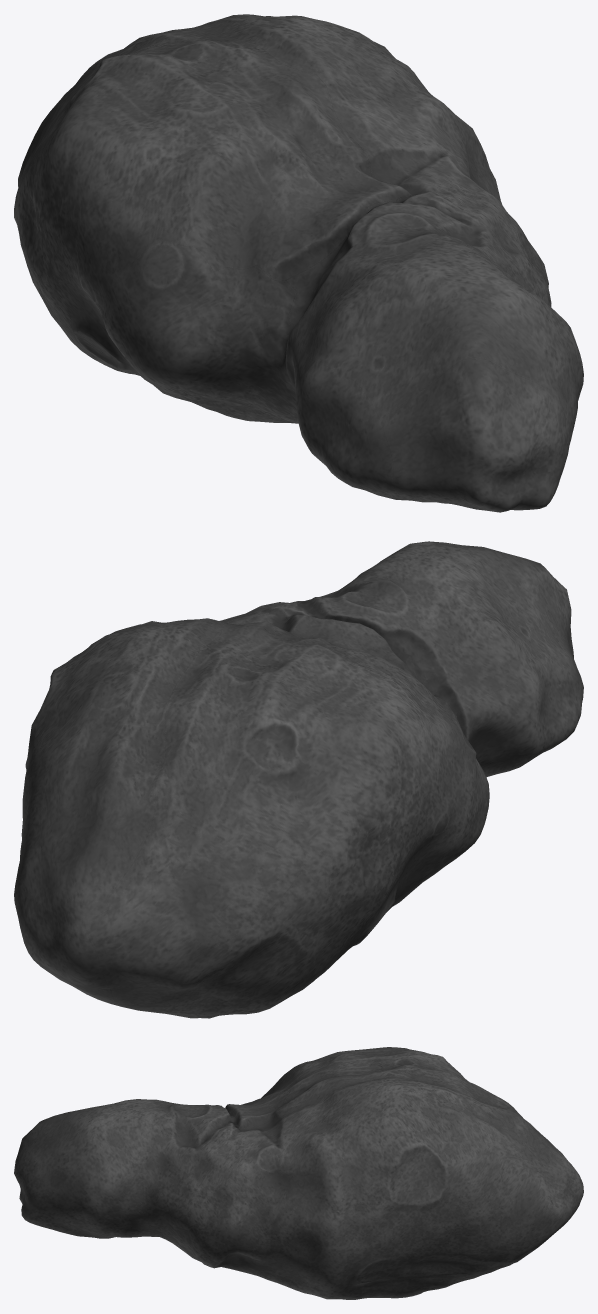
Rendered from asteroid4.glb.
3 views of the same model, one above another, from view 1: azimuth 30°, elevation 25°; view 2: azimuth 150°, elevation 25°; view 3: azimuth 270°, elevation 25° (orthographic). The views are drawn at different scales.
Parts seen in each view (by area): view 1: Toutatis_LP; view 2: Toutatis_LP; view 3: Toutatis_LP.
Part boxes in pixels (x1,y1,x2,y2): Toutatis_LP: (14, 14, 583, 512); Toutatis_LP: (14, 541, 583, 1018); Toutatis_LP: (14, 1047, 583, 1299).
Bounding box in the file's own units: 2.27 × 1.9 × 4.57.
Materials: 1 (1 with a texture image).
